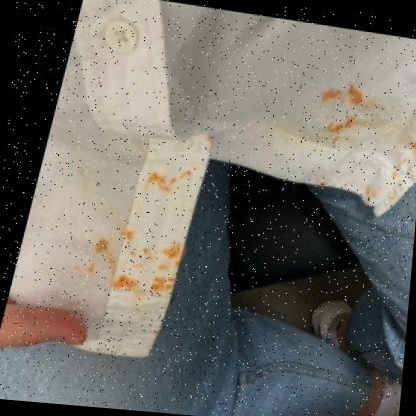kimchi: (110, 225, 178, 300), (143, 164, 194, 193), (319, 81, 370, 108), (329, 111, 368, 138), (392, 155, 415, 180), (91, 235, 113, 257), (78, 258, 99, 277), (326, 131, 343, 149), (363, 182, 381, 198), (387, 192, 401, 205), (203, 134, 216, 146), (318, 178, 332, 187), (410, 141, 416, 160), (339, 180, 350, 189)
